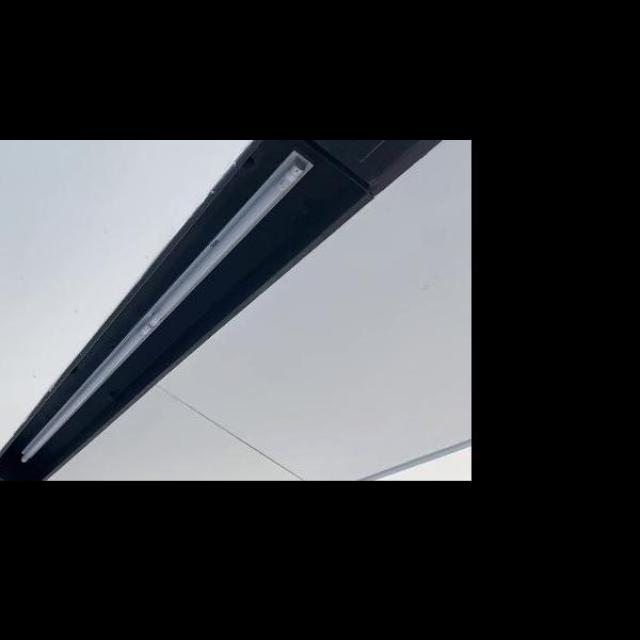Straight-Tube-Fluorescent-Lamp: (12, 147, 320, 469)
